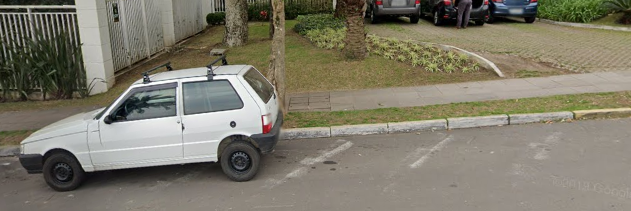vag55: (291, 65, 628, 158)
